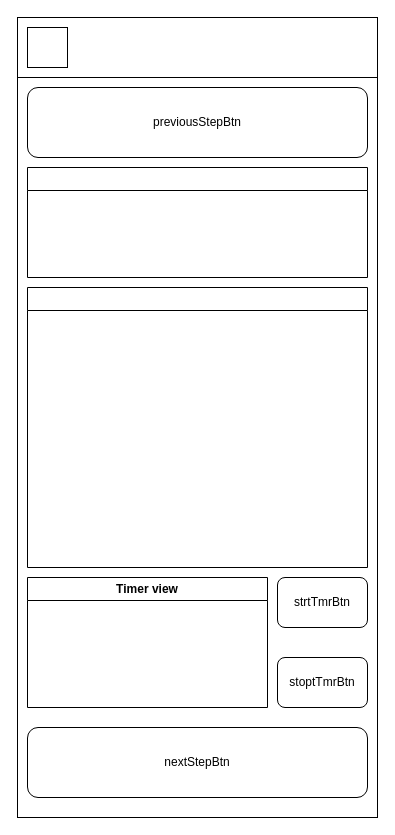
Some shapes in this 395 by 835 pixel diagram are drawn without their labels. Each missing label, with the centre of its shape:
"Nav" belongs at (47,47).
"Overview" belongs at (197,222).
"Step View" belongs at (197,427).
